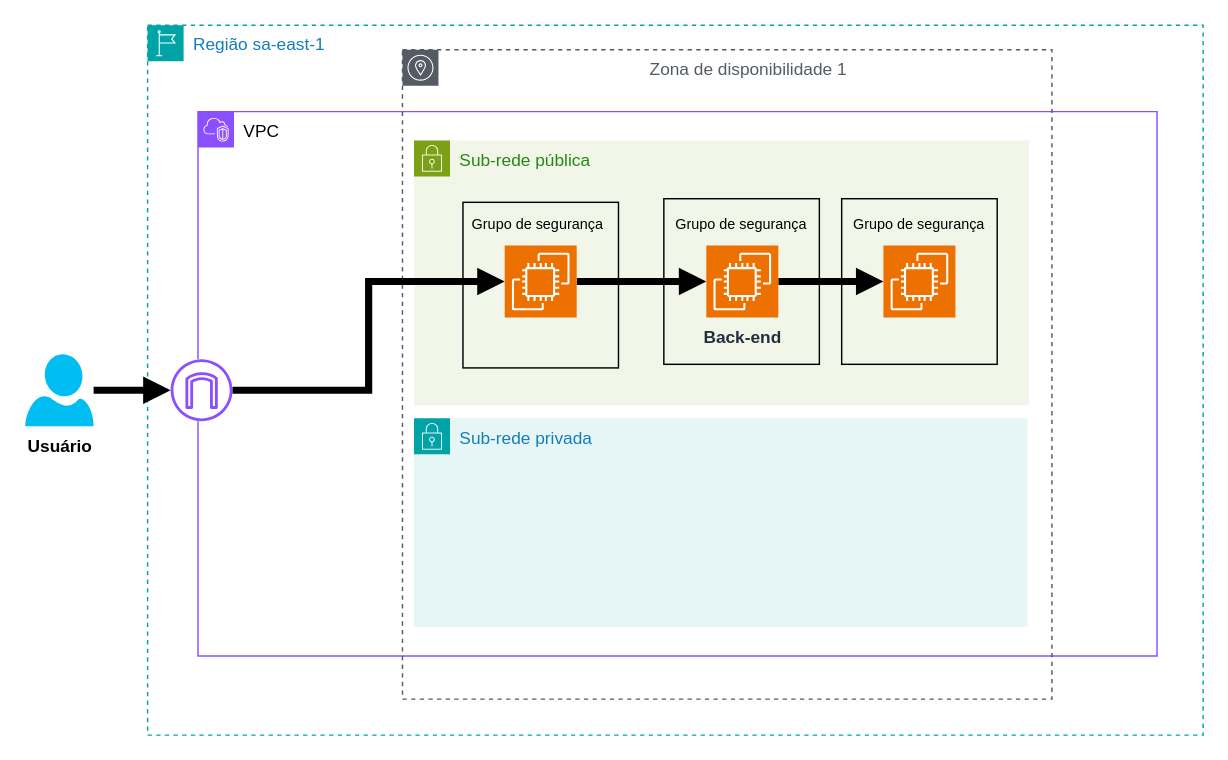
Some shapes in this 1228 by 760 pixel diagram are drawn without their labels. The centre of each missing label's shape, as x and y in pixels:
Database: point (918, 281)
Front-end: point (540, 281)
Internet Gateway: point (201, 389)
